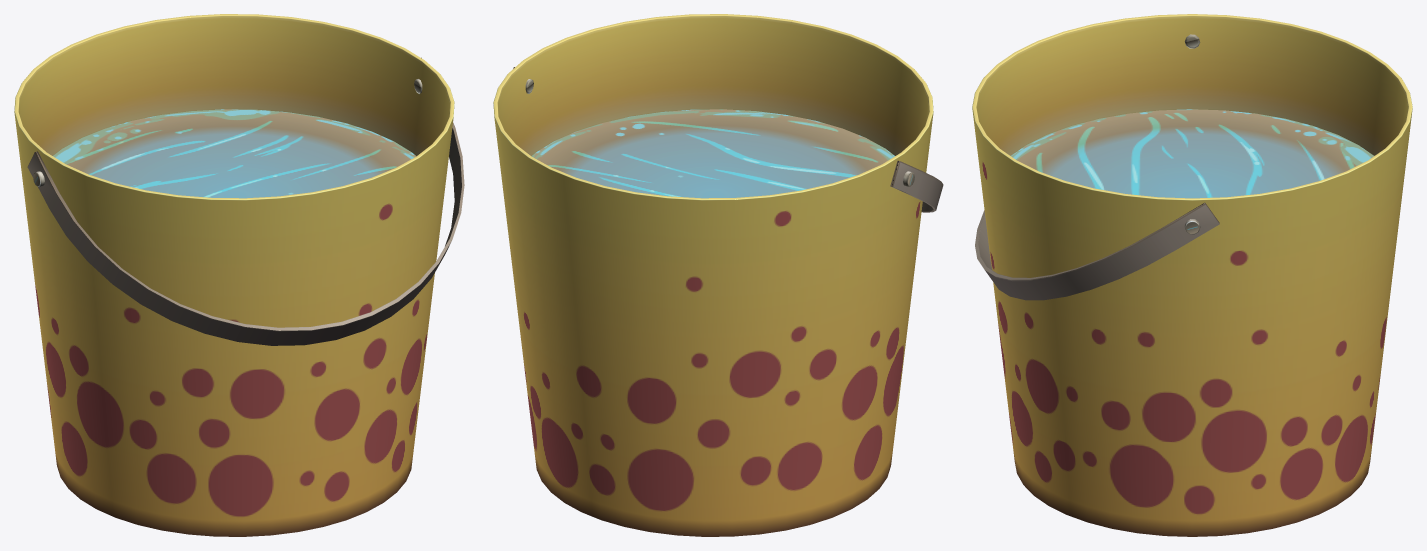
Rendered from bucket.glb.
The picture shows the model from 3 angles, left to right: view 1: azimuth 30°, elevation 25°; view 2: azimuth 150°, elevation 25°; view 3: azimuth 270°, elevation 25°; orthographic projection.
Visible parts, largest first — view 1: Bucket; view 2: Bucket; view 3: Bucket.
Boxes of the visible parts, bbox=[...] form: Bucket: bbox=[14, 14, 464, 536]; Bucket: bbox=[493, 14, 943, 536]; Bucket: bbox=[972, 14, 1412, 536].
Bounding box in the file's own units: 0.2429 × 0.2081 × 0.2341.
Materials: 1 (1 with a texture image).
